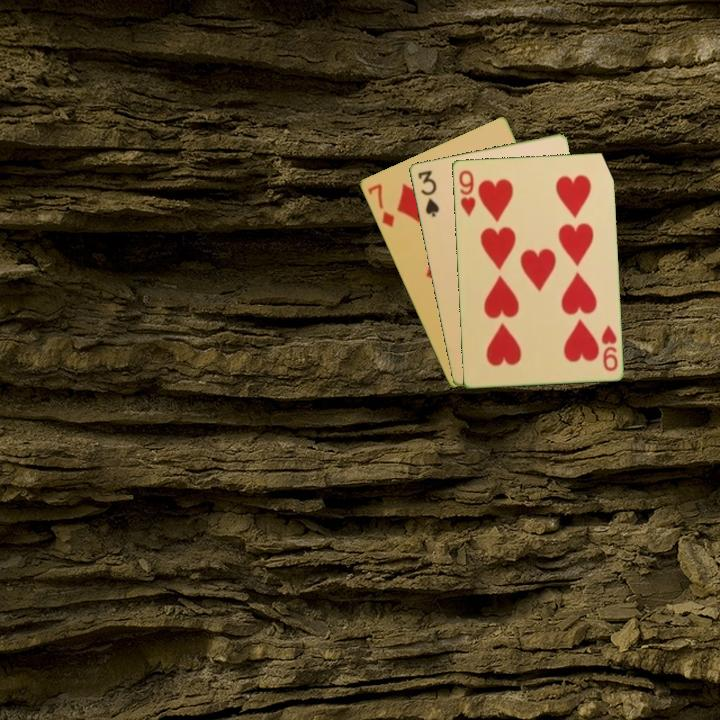3s: (414, 166, 442, 219)
7d: (364, 180, 397, 230)
9h: (597, 321, 620, 374), (455, 167, 478, 218)
